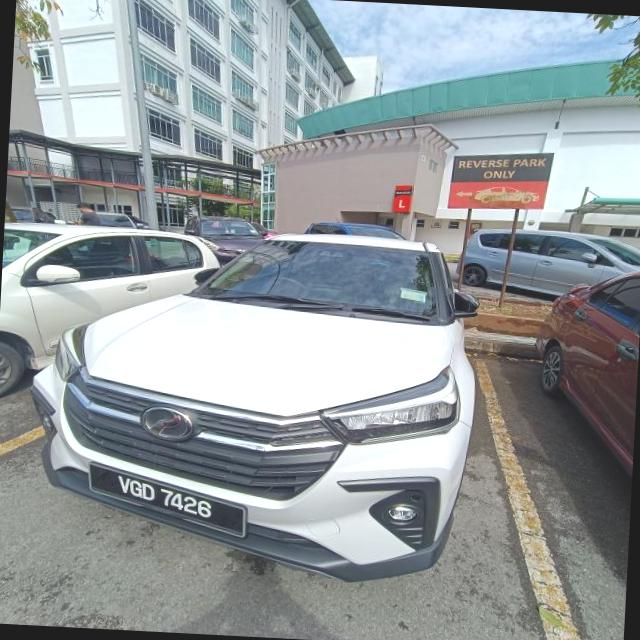PeroduaAtiva: (19, 216, 486, 588)
